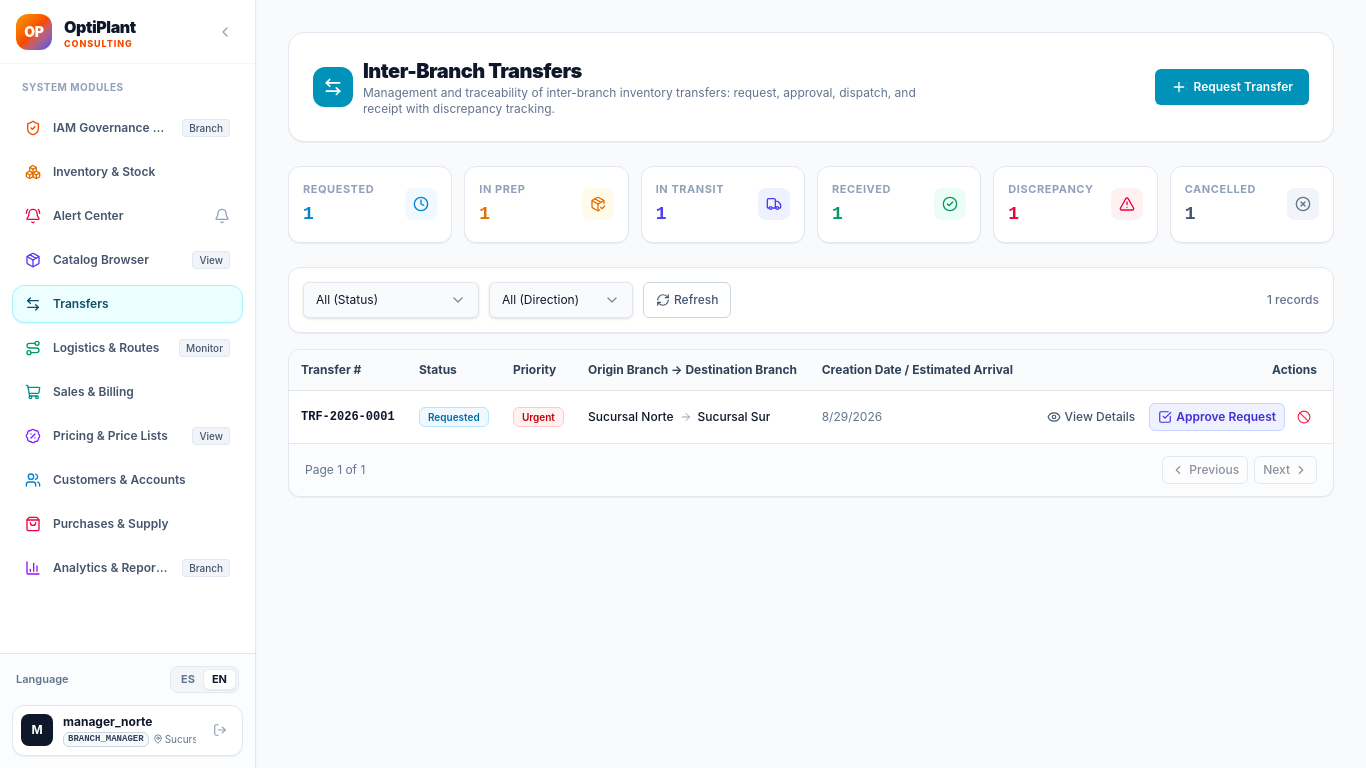
TransfersDashboard Component Tests › shows Review/Approval action for origin branch manager
Click the button "Approve Request". click: (1217, 416)
box: [1149,402,1285,430]
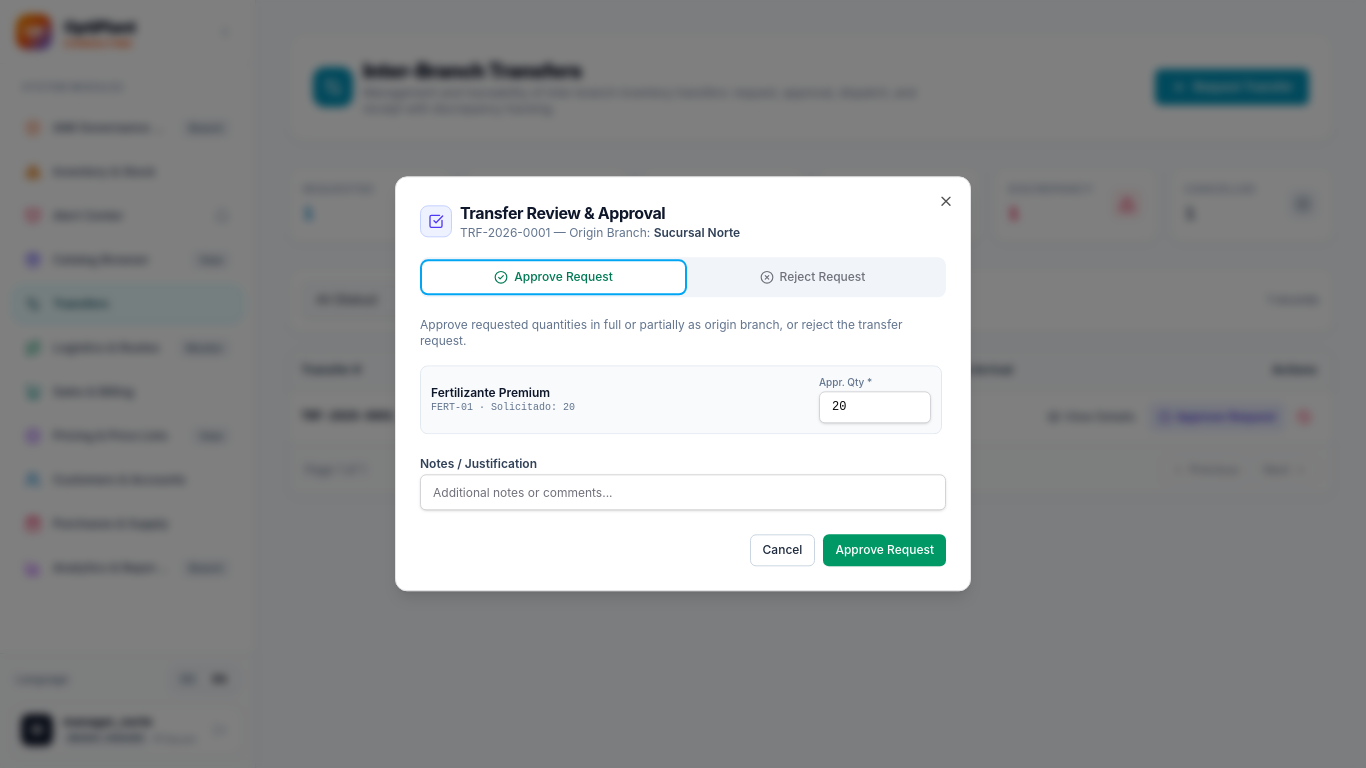
Check: the heading "Transfer Review & Approval" is shown, box [460,203,665,223]
